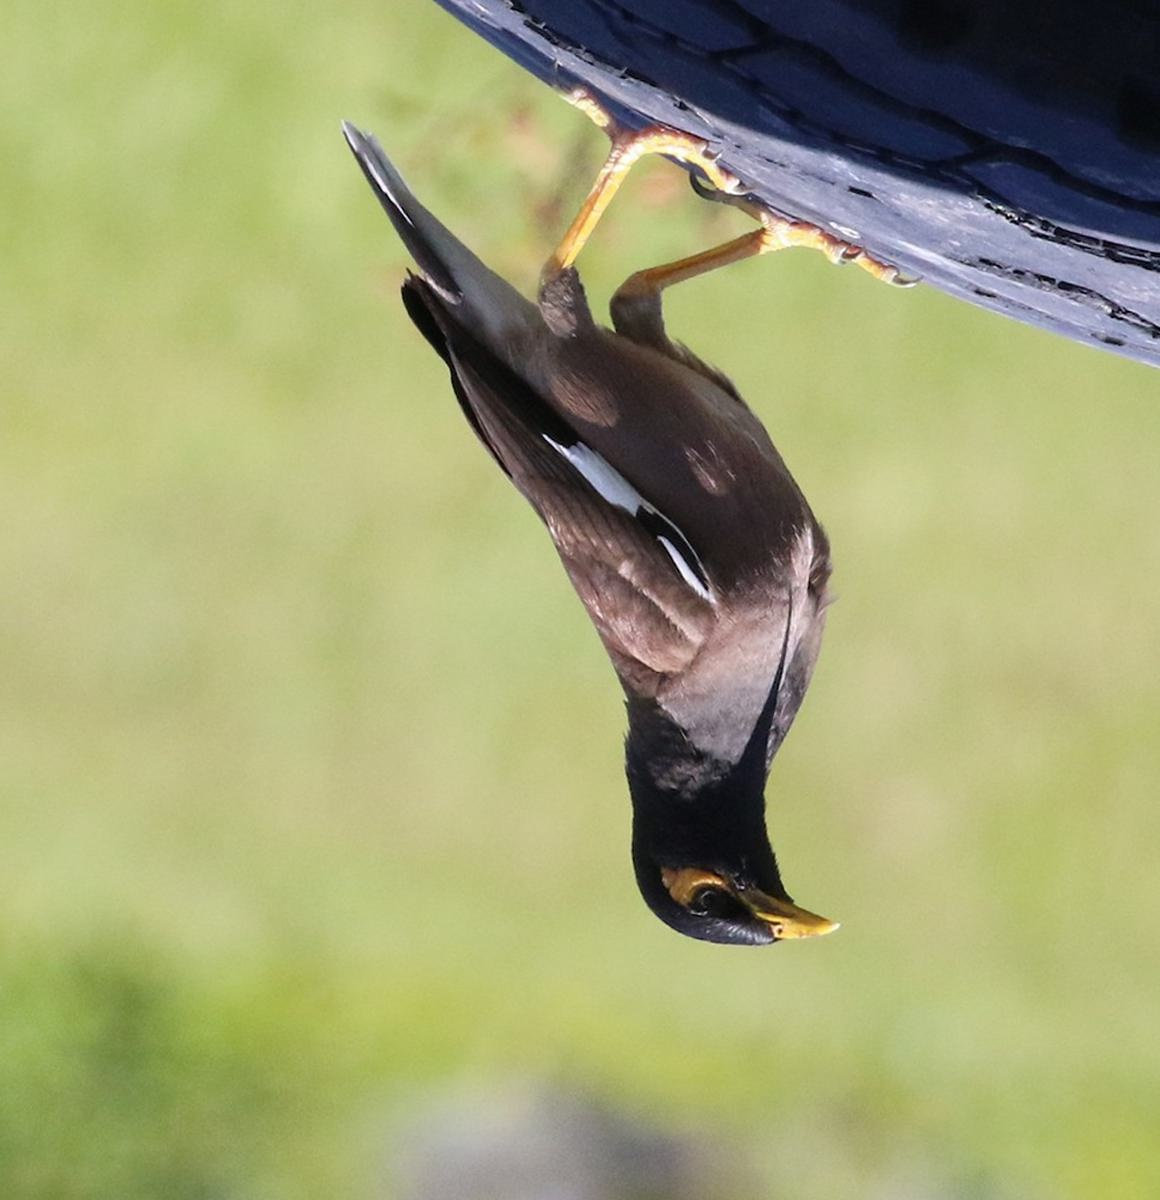myna: (445, 99, 852, 970)
